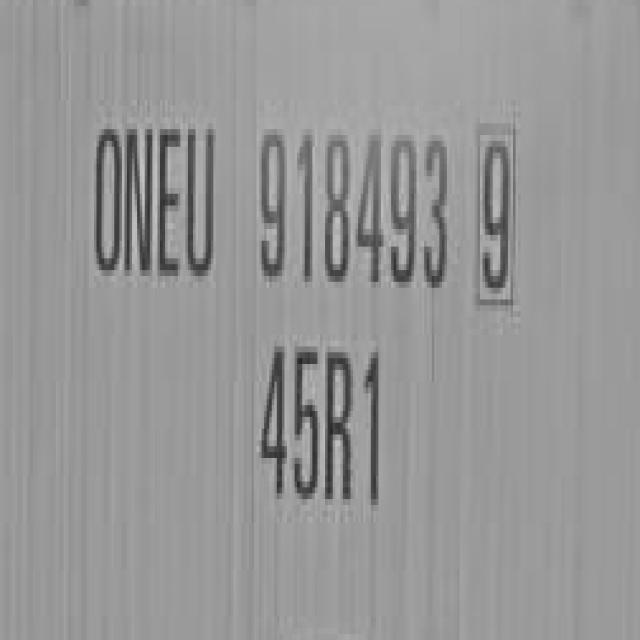dv: (468, 113, 522, 310)
owner: (85, 94, 223, 290)
serial: (252, 105, 456, 294)
size: (254, 325, 401, 536)
